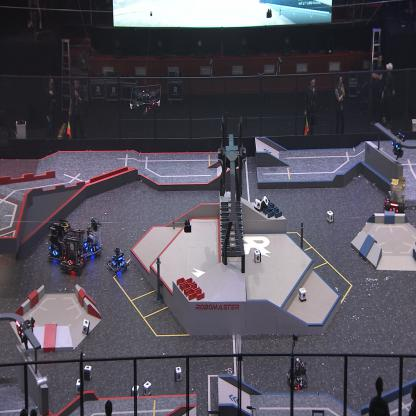car: (60, 226, 86, 276), (382, 175, 408, 220), (48, 218, 72, 264), (82, 214, 104, 262), (286, 356, 308, 390), (106, 245, 130, 274)
